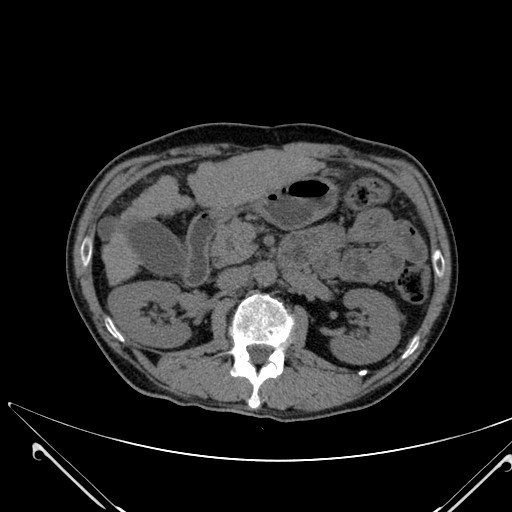vesicula: (124, 216, 187, 280)
